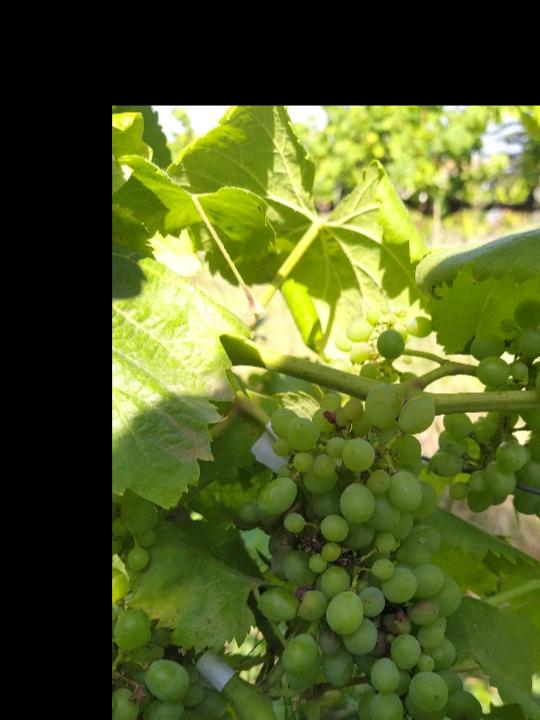grape: (230, 383, 483, 720), (427, 274, 540, 554)
